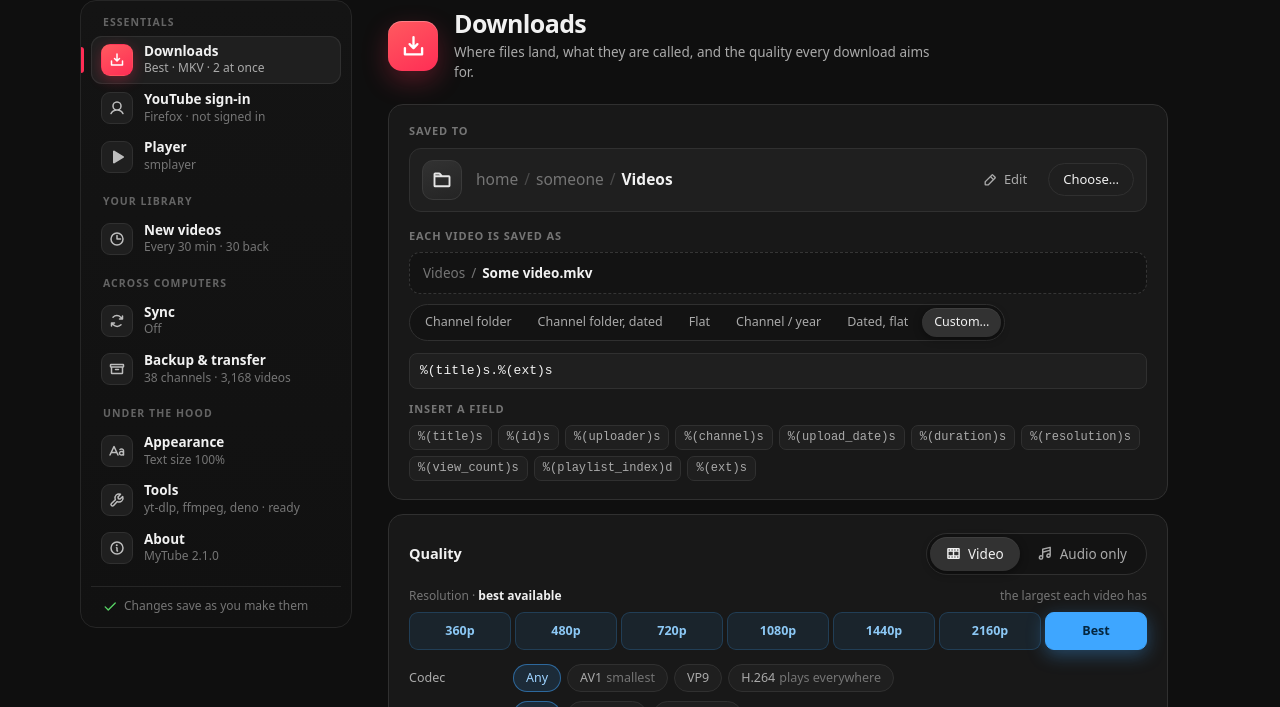
Scenario: Saved to › says why when the folder dialog fails
The width and height of the screenshot is (1280, 707).
Expected: the navigation bar named "Settings sections" is shown, [80,0,352,628]
What coordinates should you click on to do the following:
click the button "Choose…"
I would click on:
 (1091, 180)
Its box is [1048,163,1134,196].
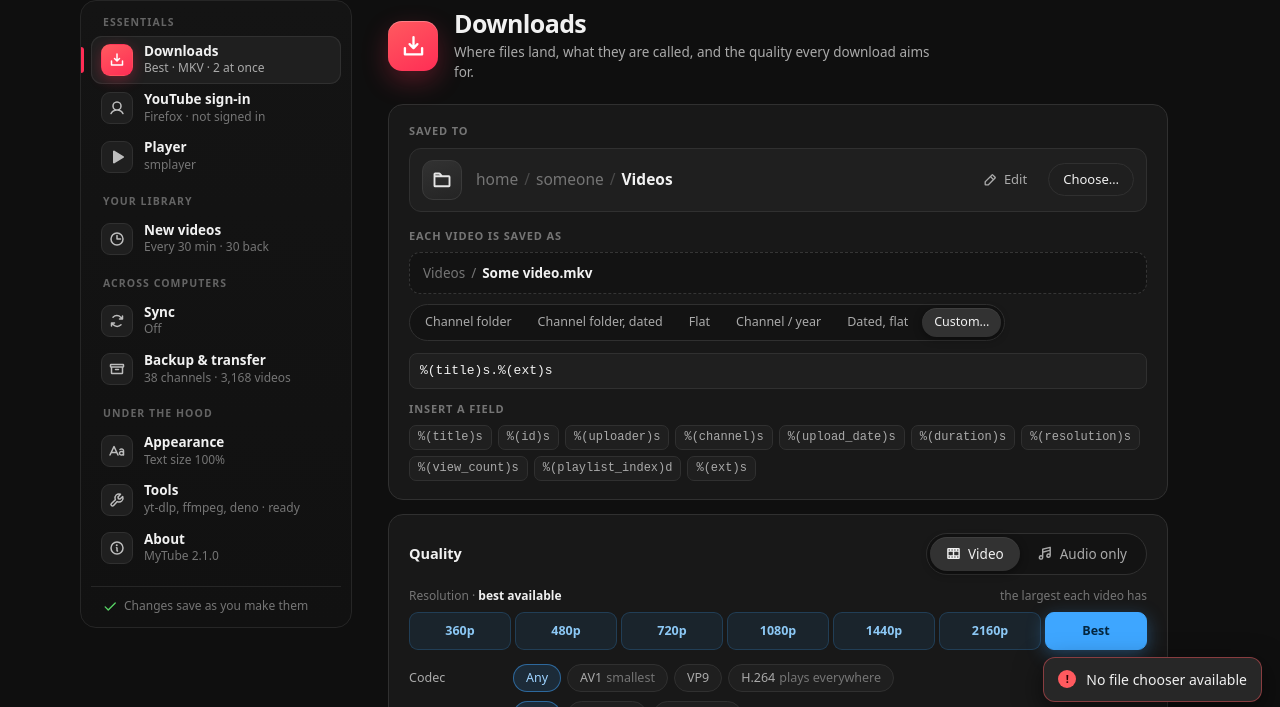
Expected: the text "No file chooser available" is shown, [1086,669,1247,690]
